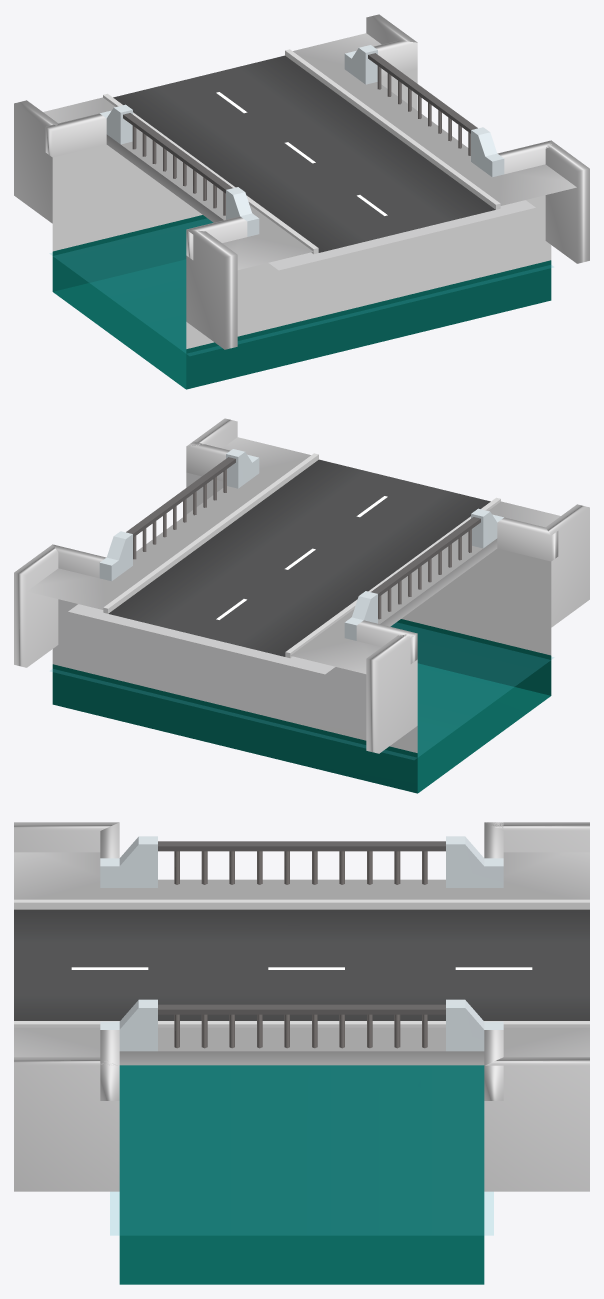
The model's file is road_032.glb.
3 views of the same model, one above another, from view 1: azimuth 30°, elevation 25°; view 2: azimuth 150°, elevation 25°; view 3: azimuth 270°, elevation 25° (orthographic). The views are drawn at different scales.
Parts seen in each view (by area): view 1: road_032; view 2: road_032; view 3: road_032.
Boxes of the visible parts, x1,y1,x2,y2 form: road_032: [14, 14, 589, 389]; road_032: [14, 418, 589, 793]; road_032: [14, 822, 589, 1284].
Bounding box in the file's own units: 15 × 6.92 × 15.
Materials: 2 (2 with a texture image).
